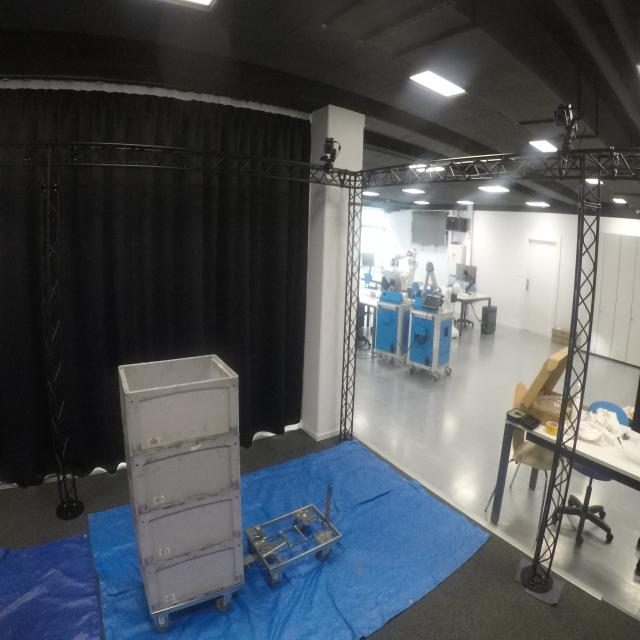Box4G: (117, 354, 242, 456), (121, 432, 244, 519), (128, 485, 244, 567)
